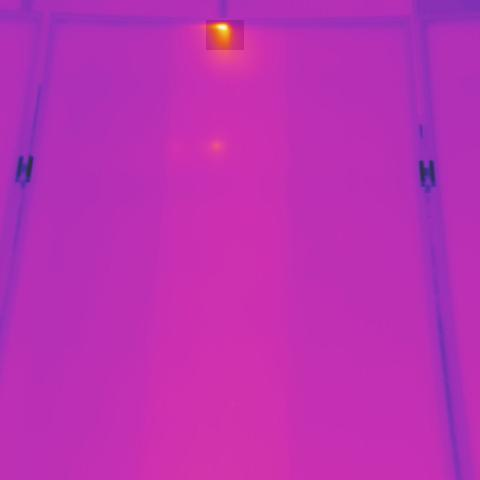fault: (206, 20, 244, 50)
